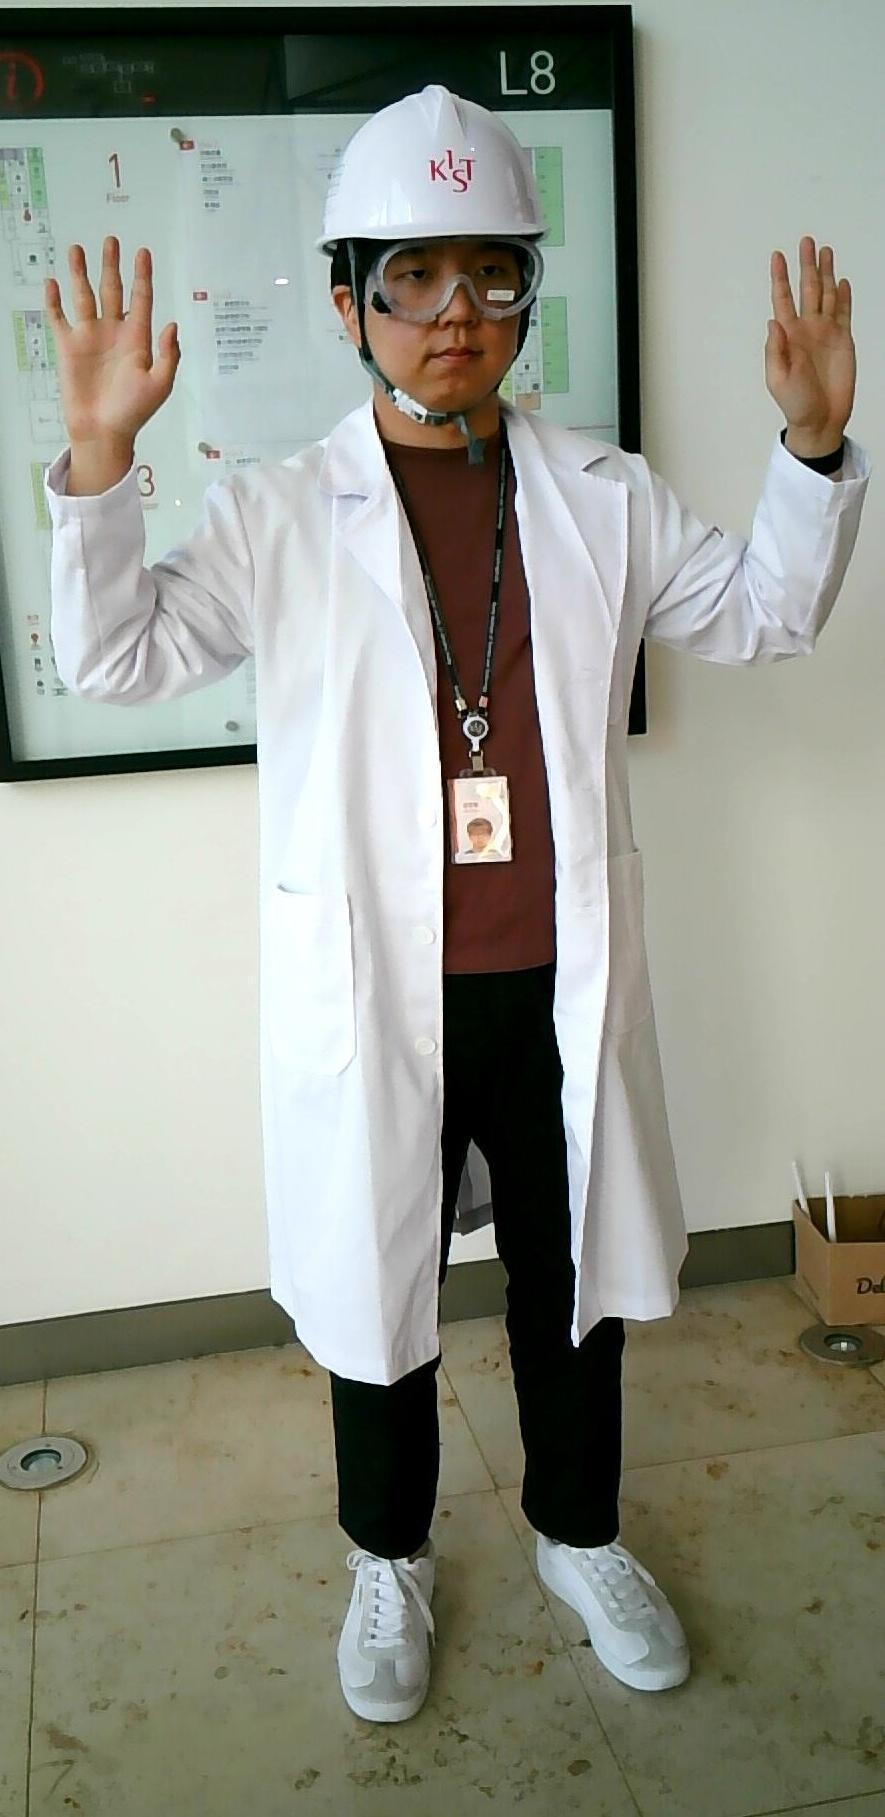lab_coat: (279, 447, 671, 1340)
